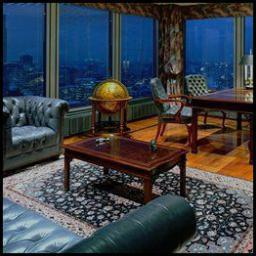Otro Obstaculo: (89, 79, 132, 130)
